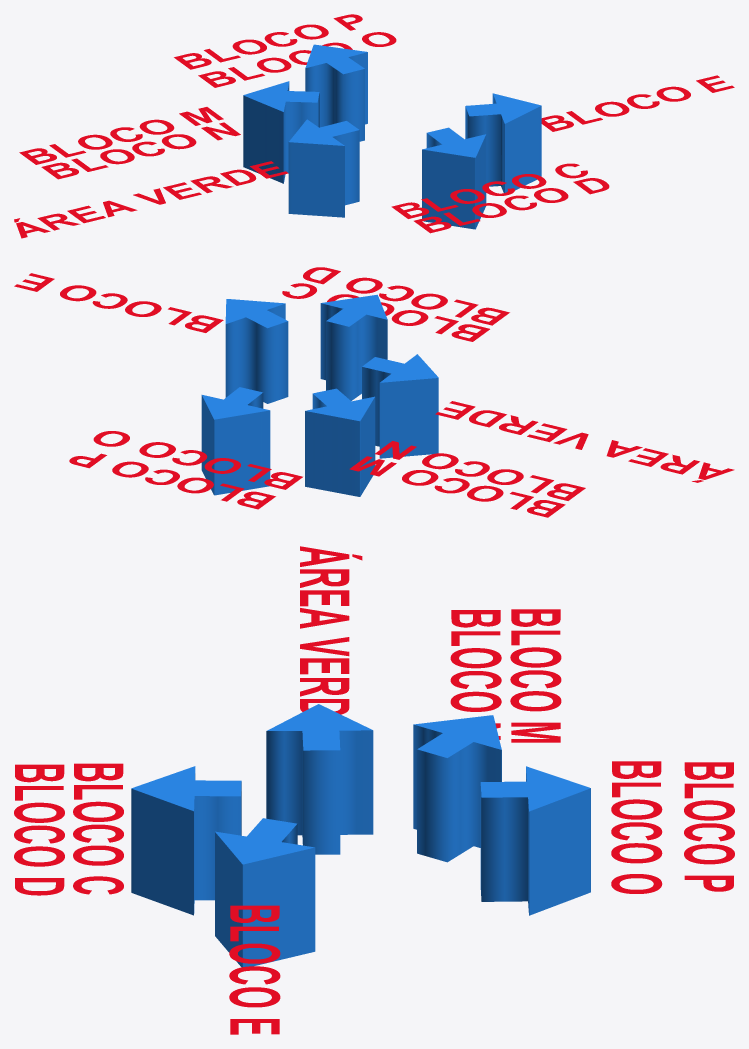
File: bloco G - 0.glb
3 views of the same model, one above another, from view 1: azimuth 30°, elevation 25°; view 2: azimuth 150°, elevation 25°; view 3: azimuth 270°, elevation 25° (orthographic). The views are drawn at different scales.
Visible parts, largest first — view 1: Curve.002, Curve.007, Curve.004, Curve.003, Curve.006, Text.012, Text.001, Text.003, Text.008, Text.004, Text.002, Text.007 (+1 smaller); view 2: Curve.003, Curve.002, Curve.006, Curve.007, Curve.004, Text.012, Text.001, Text.008, Text.003, Text.004, Text.014, Text.002 (+1 smaller); view 3: Curve.006, Curve.002, Curve.004, Curve.007, Curve.003, Text.012, Text.001, Text.014, Text.008, Text.004, Text.002, Text.007 (+1 smaller).
Part boxes in pixels (x1,y1,x2,y2): Curve.002: (288, 119, 359, 217); Curve.007: (465, 93, 541, 192); Curve.004: (422, 127, 486, 229); Curve.003: (243, 81, 319, 183); Curve.006: (305, 44, 367, 141); Text.012: (14, 161, 288, 238); Text.001: (19, 107, 223, 164); Text.003: (41, 122, 240, 179); Text.008: (414, 178, 609, 233); Text.004: (541, 75, 734, 131); Text.002: (174, 14, 362, 69); Text.007: (391, 163, 587, 218); Curve.003: (305, 388, 375, 496); Curve.002: (362, 354, 438, 458); Curve.006: (201, 387, 270, 495); Curve.007: (225, 299, 288, 403); Curve.004: (320, 294, 387, 400); Text.012: (435, 401, 734, 482); Text.001: (349, 456, 565, 517); Text.008: (303, 267, 509, 325); Text.003: (375, 441, 585, 500); Text.004: (14, 273, 223, 332); Text.014: (93, 431, 302, 489); Text.002: (69, 453, 275, 509); Curve.006: (480, 766, 590, 915); Curve.002: (266, 704, 373, 854); Curve.004: (131, 766, 241, 915); Curve.007: (215, 818, 315, 967); Curve.003: (413, 715, 501, 862); Text.012: (300, 546, 362, 714); Text.001: (510, 609, 561, 742); Text.014: (611, 761, 662, 893); Text.008: (14, 764, 64, 895); Text.004: (229, 905, 280, 1034); Text.002: (684, 762, 734, 891); Text.007: (73, 763, 123, 894).
Size of the model in its own units: 3.52 by 0.3602 by 2.19.
